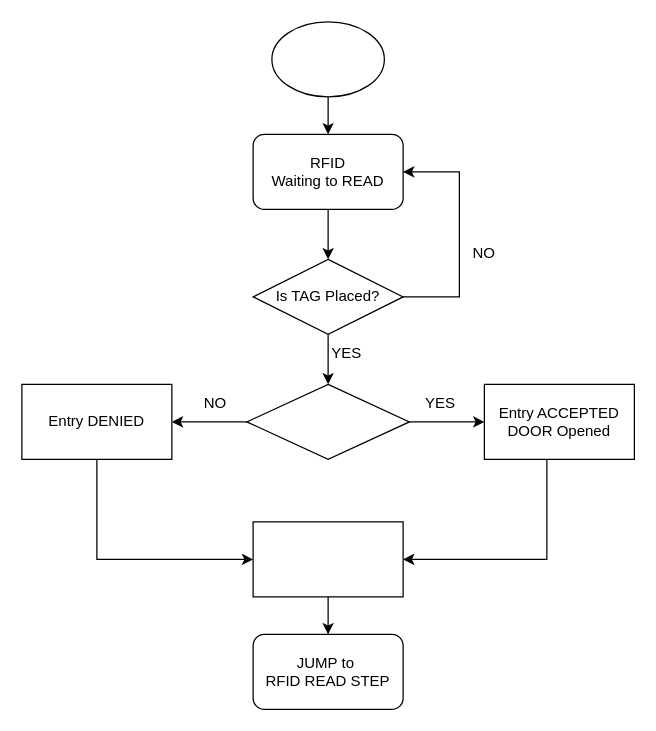
This 656x731 diagram has some shape labels left out. Here are the shapes that lost their labels. From the top down, the box of each, then its label:
(271, 21, 384, 97): START
(246, 383, 409, 459): If TAG Id matched?
(252, 521, 403, 597): Camera clicks image of user and sends to EMAIL
